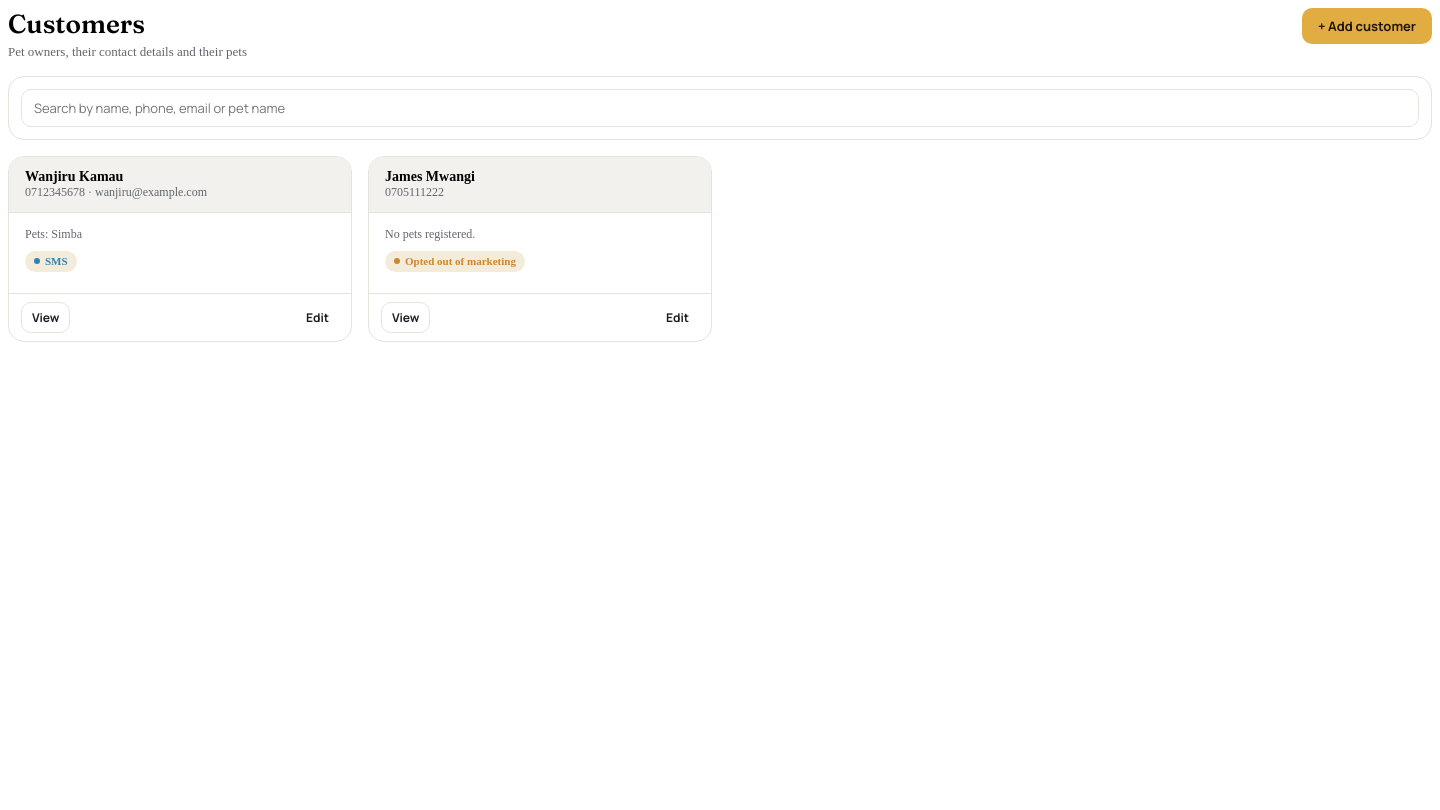
Test case: CustomersPage › blocks a duplicate phone number
expect the text "Wanjiru Kamau" is shown: met, box 25,169 -> 123,184
Click the button "+ Add customer" at (1367, 26), box 1302,8 -> 1432,44
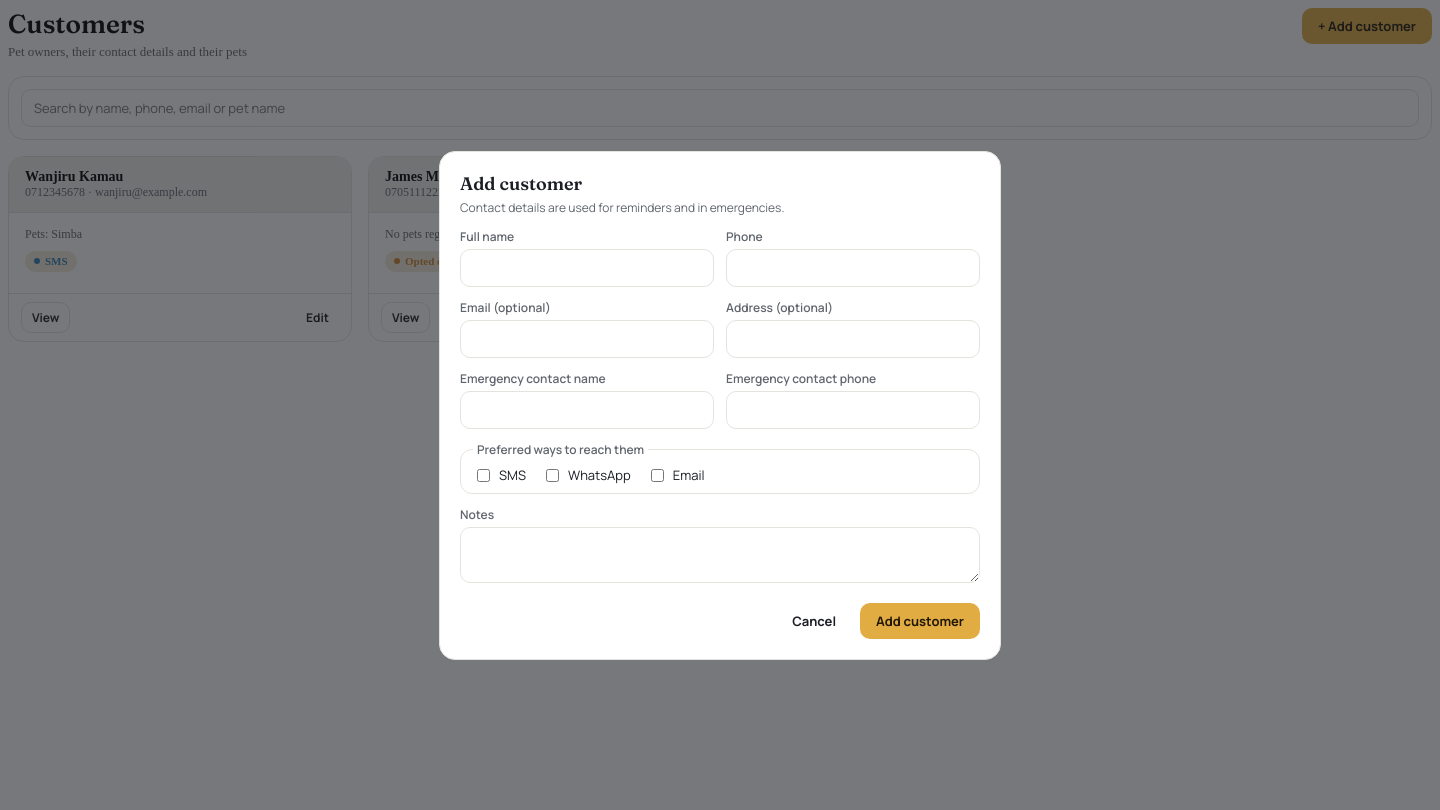
Type "Someone Else" into the field labelled "Full name" at (587, 268), box 460,248 -> 714,286
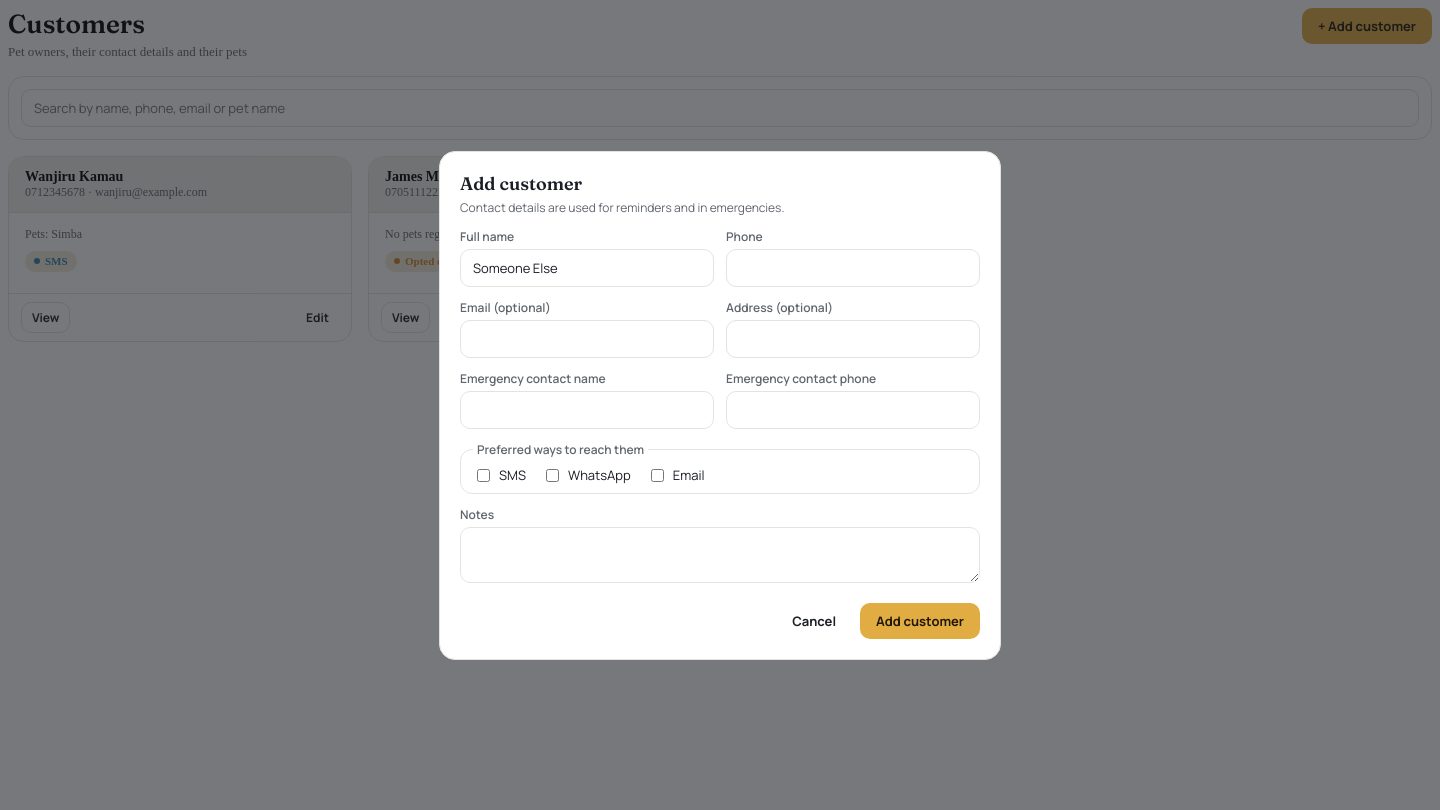
Type "0712 345 678" into the field labelled "Phone" at (853, 268), box 726,248 -> 980,286
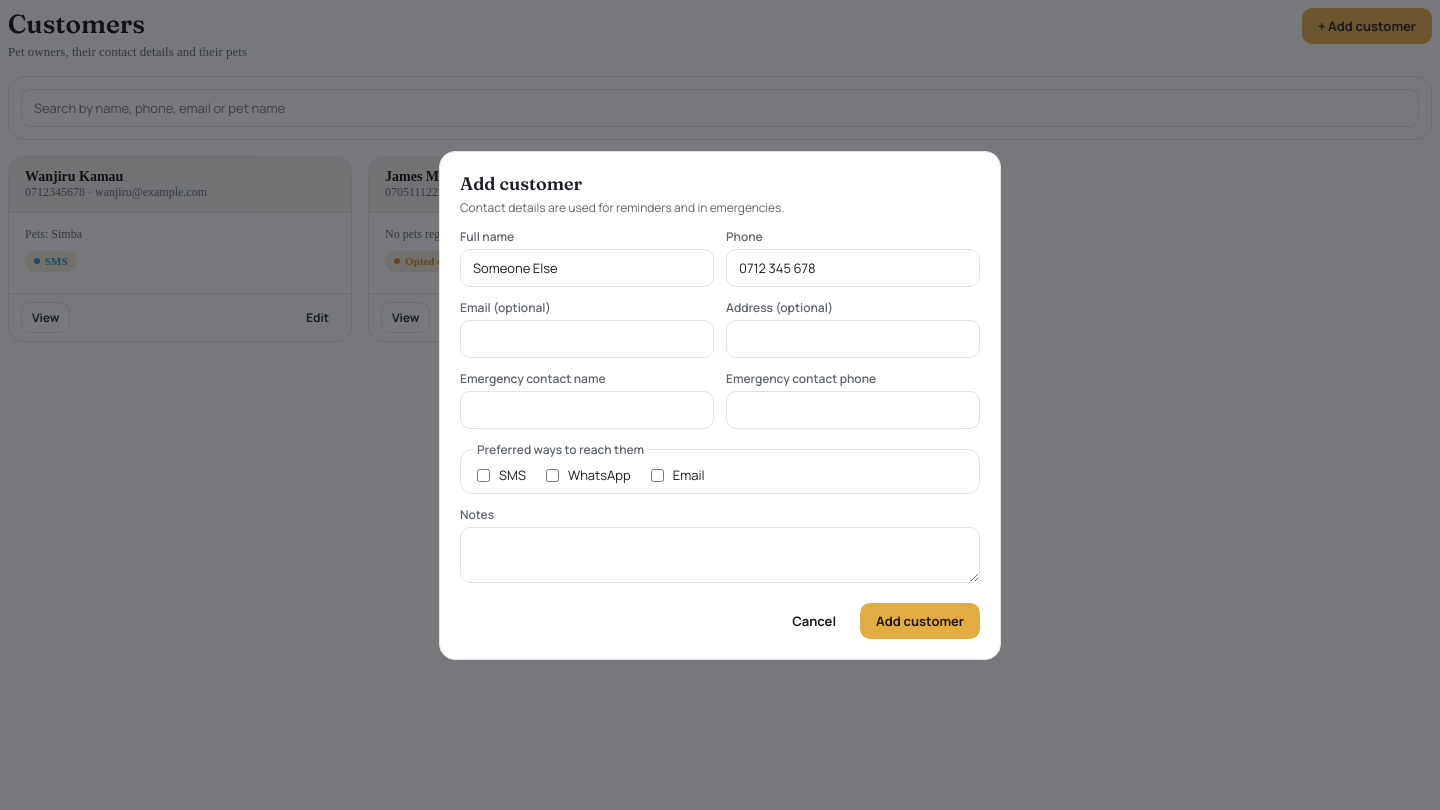
Click the button "Add customer" at (920, 620), box 860,602 -> 980,638
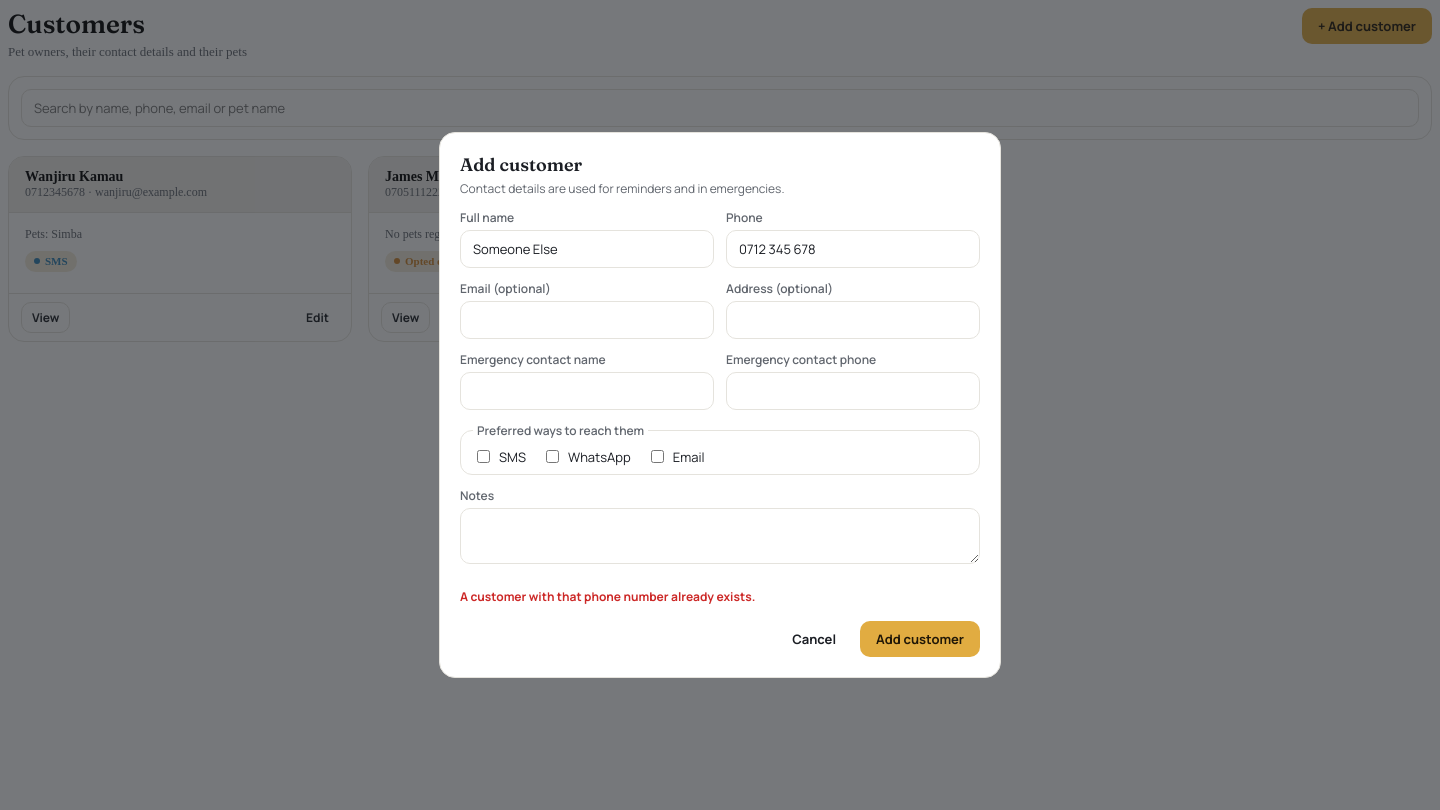
expect the text "A customer with that phone number already exists." is shown: met, box 460,588 -> 755,605
